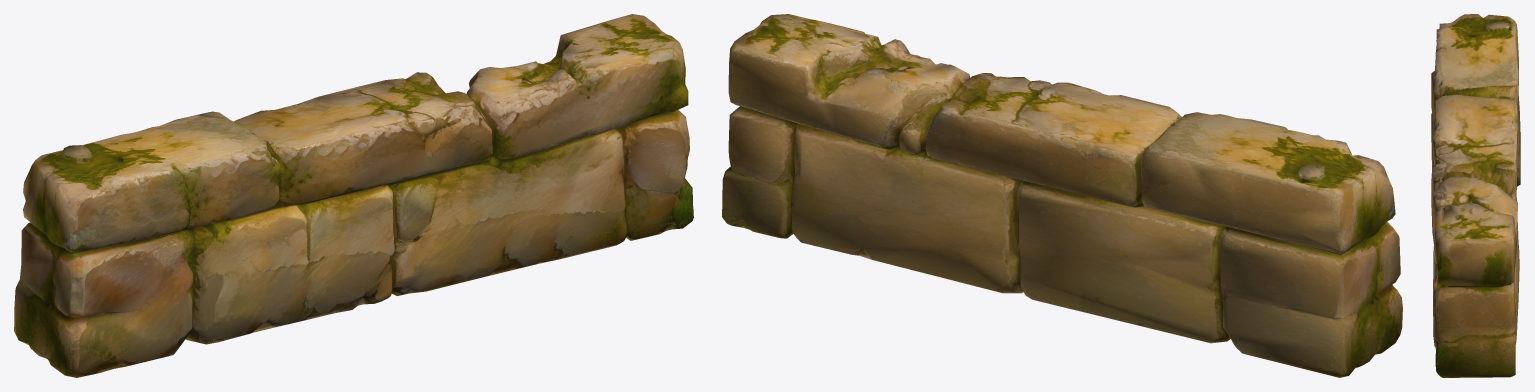
File: barrier.glb
The picture shows the model from 3 angles, left to right: view 1: azimuth 30°, elevation 25°; view 2: azimuth 150°, elevation 25°; view 3: azimuth 270°, elevation 25°; orthographic projection. The views are drawn at different scales.
Visible parts, largest first — view 1: material; view 2: material; view 3: material.
Boxes of the visible parts, box(x1,y1,x2,y2) form: material: box(14, 14, 693, 377); material: box(722, 14, 1402, 377); material: box(1431, 14, 1520, 377).
Size of the model in its own units: 1.9 by 0.5487 by 0.3124.
Materials: 1 (1 with a texture image).
